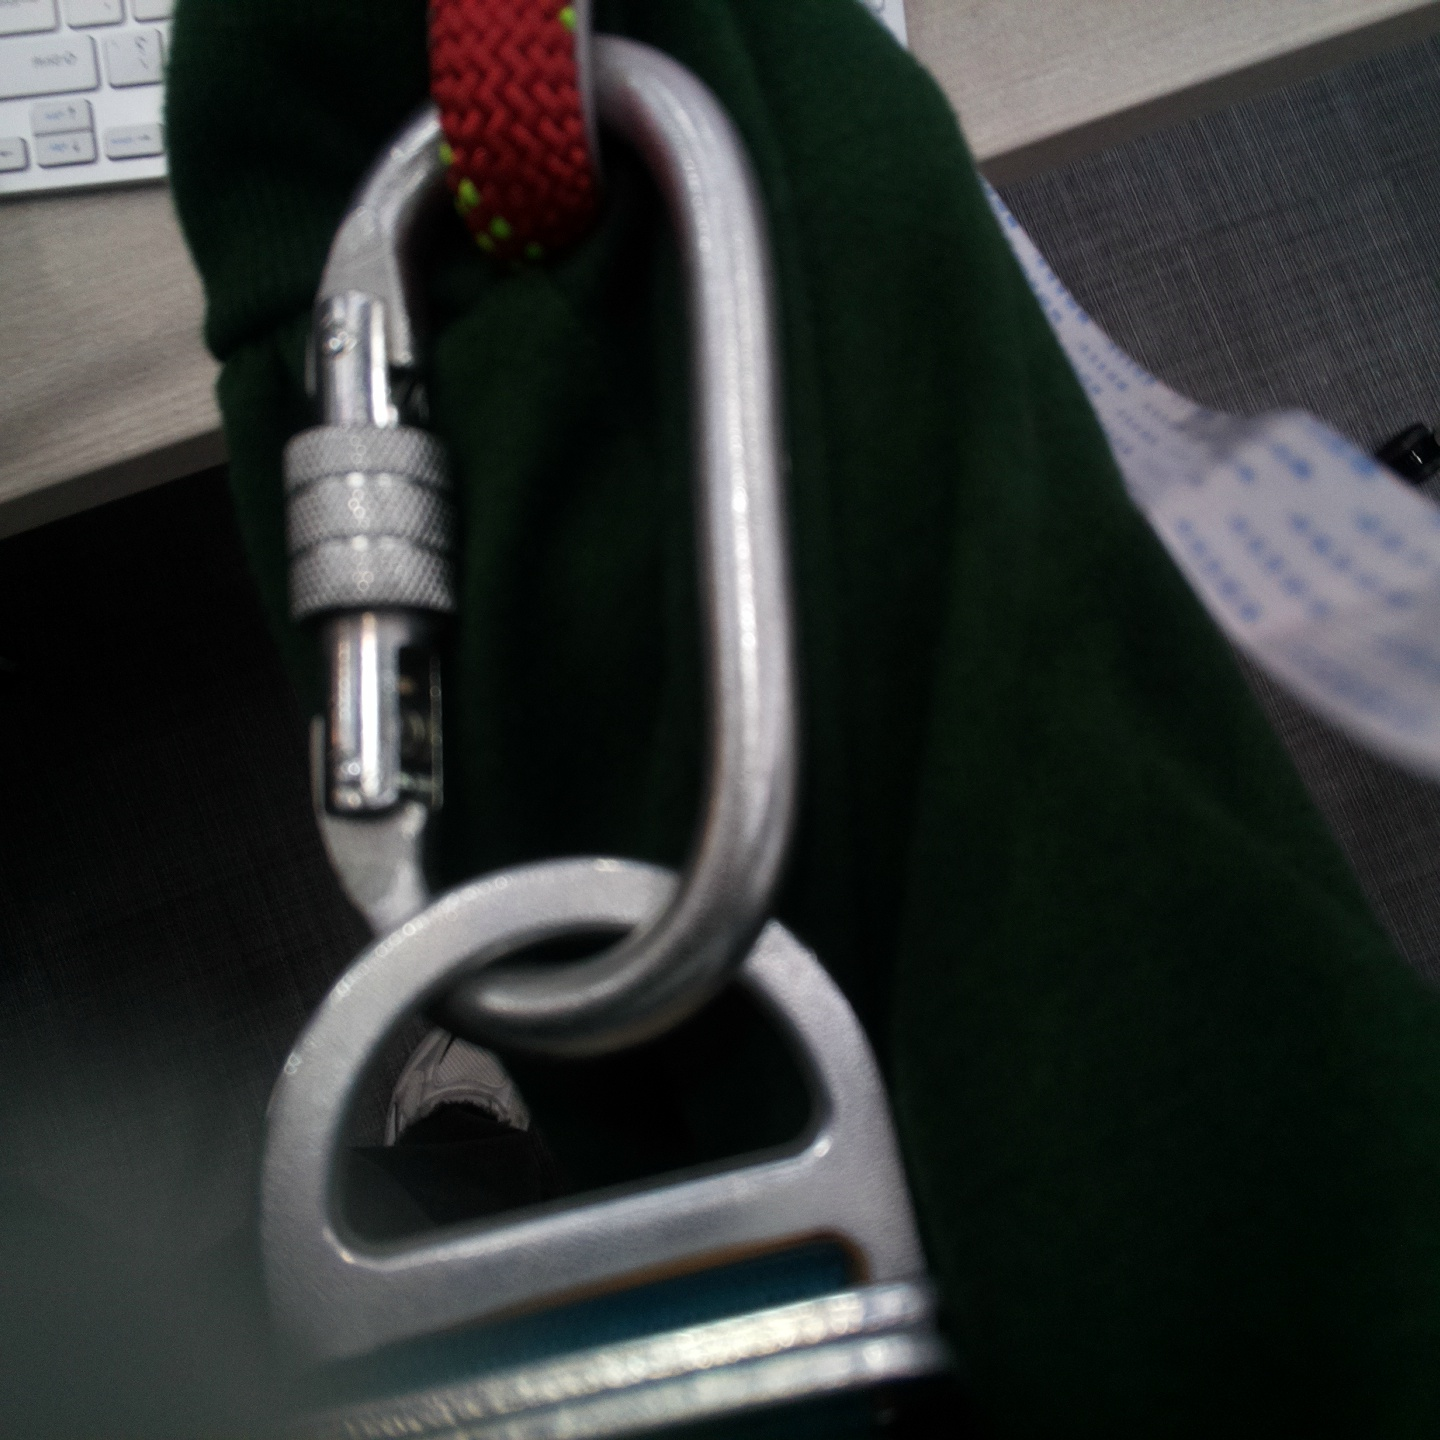SUCCESS: (215, 356, 877, 1011)
